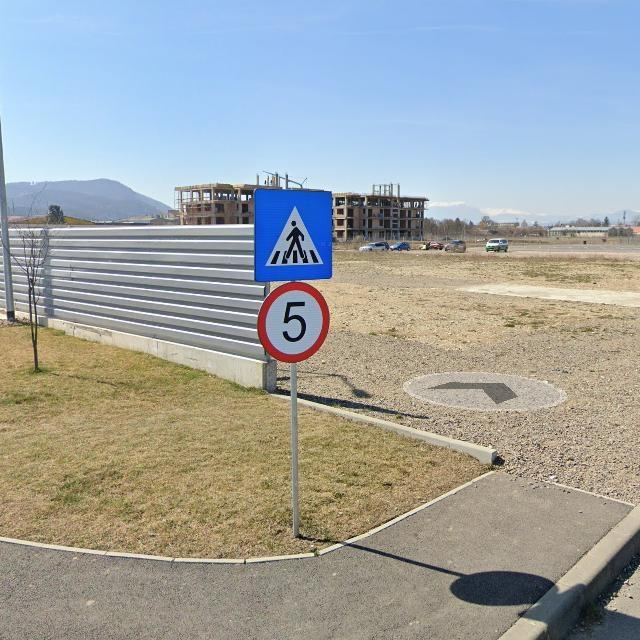info_crosswalk: (254, 187, 333, 282)
